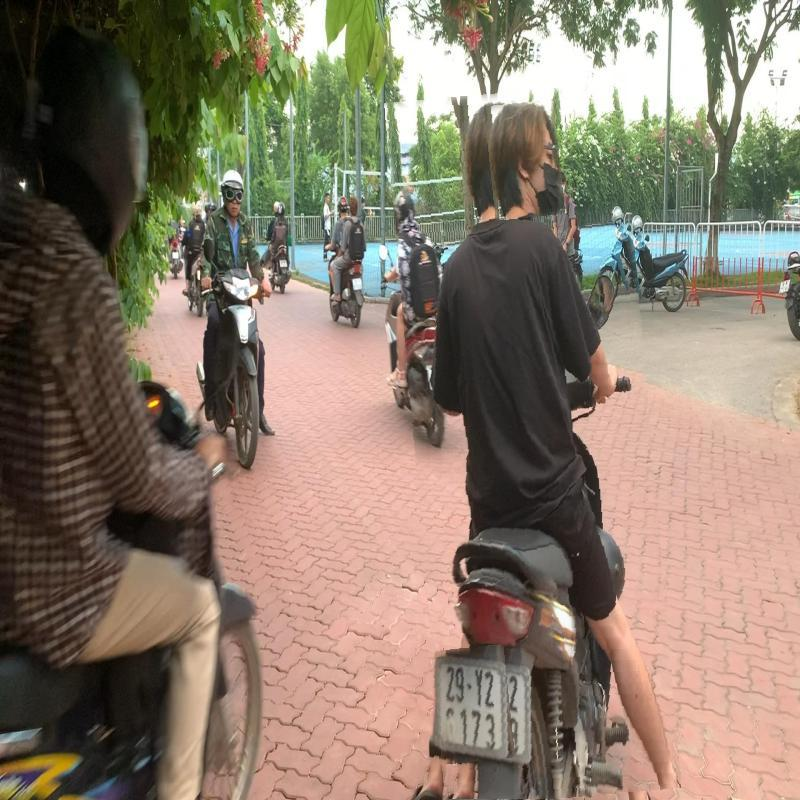licenseplate: (431, 646, 512, 764)
motorcyclist: (399, 87, 666, 800)
nohelmet: (487, 100, 563, 218)
